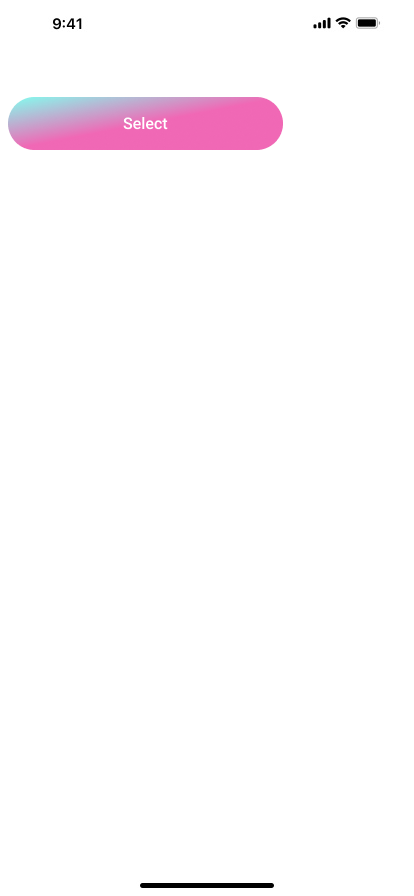Buttons: (8, 97, 283, 150)
Home Indicator: (0, 862, 414, 896)
Status Bar: (0, 0, 414, 44)
